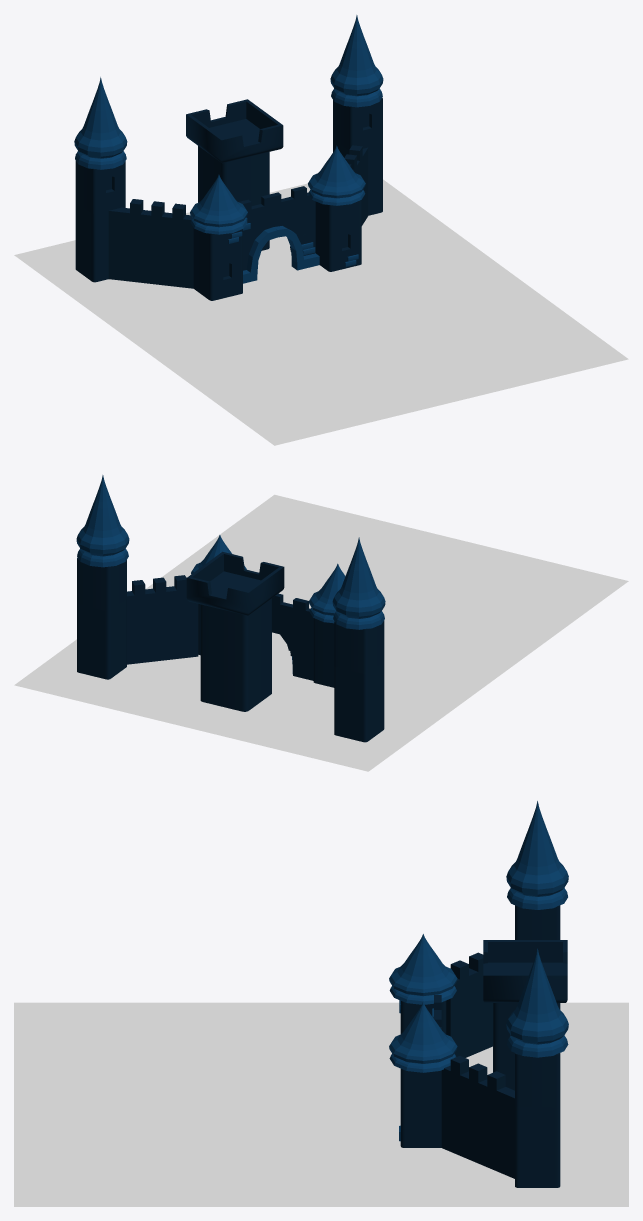
The model's file is castle1.fbx.
3 renders of one model, top to bottom at view 1: azimuth 30°, elevation 25°; view 2: azimuth 150°, elevation 25°; view 3: azimuth 270°, elevation 25°, orthographic. The views are drawn at different scales.
Parts seen in each view (by area): view 1: Plane001, Box001, Box012, Cone007, Cone006, Cone003, Cone005, Box010; view 2: Plane001, Box001, Box012, Cone006, Cone007, Cone005; view 3: Plane001, Box001, Box012, Cone007, Cone006, Cone003, Cone005.
Boxes of the visible parts, x1,y1,x2,y2 form: Plane001: (14,179,628,445); Box001: (75,97,382,300); Box012: (186,99,283,250); Cone007: (330,15,383,107); Cone006: (74,77,127,169); Cone003: (308,145,365,205); Cone005: (190,174,247,234); Box010: (228,217,358,283); Plane001: (14,494,628,771); Box001: (77,557,384,742); Box012: (186,551,284,711); Cone006: (332,537,385,629); Cone007: (76,475,129,567); Cone005: (309,563,345,623); Plane001: (14,1002,628,1206); Box001: (400,905,560,1187); Box012: (483,940,567,1090); Cone007: (506,948,568,1057); Cone006: (506,801,568,909); Cone003: (389,1002,457,1072); Cone005: (389,934,457,1004).
Size of the model in its own units: 746 by 393 by 949.
